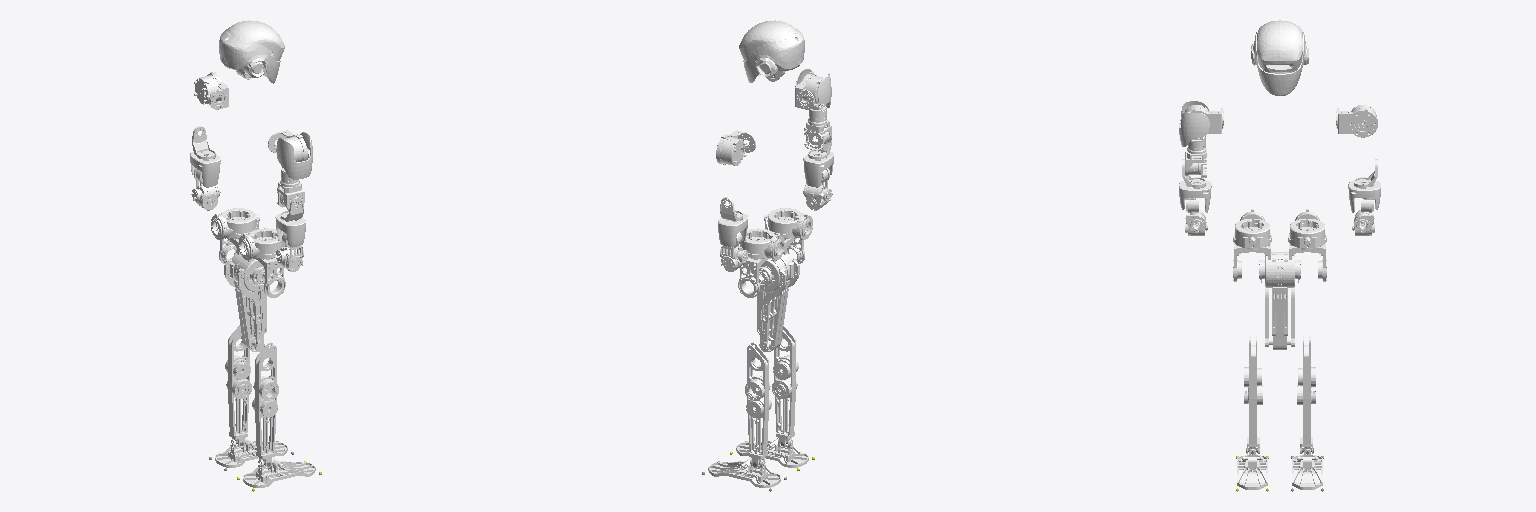
--- Facts derived from the render (not from the file) ---
3 views of the same robot in one strip: view 1: azimuth 30°, elevation 25°; view 2: azimuth 150°, elevation 25°; view 3: azimuth 270°, elevation 25° (orthographic).
Robot: biped_s41 — 45 links, 44 joints (28 revolute, 16 fixed); root link dummy_link; default pose: all joints at 0.
Visible links, largest first — view 1: head, leg_r4_link, leg_l4_link, leg_r3_link, leg_r6_link, leg_l1_link, leg_l3_link, leg_r1_link, zarm_r2_link, leg_l6_link, zarm_l1_link, leg_r2_link (+4 smaller); view 2: head, leg_l4_link, leg_r4_link, leg_l3_link, leg_l6_link, leg_r1_link, leg_r3_link, leg_l1_link, zarm_l1_link, leg_r6_link, leg_l2_link, zarm_r3_link (+3 smaller); view 3: head, leg_l4_link, leg_r4_link, leg_l3_link, leg_r3_link, leg_l1_link, leg_r1_link, zarm_l1_link, leg_l6_link, leg_r6_link, zarm_r2_link, zarm_r3_link (+4 smaller).
Boxes of the visible links, x1,y1,x2,y2 form: head: [219, 20, 284, 83]; leg_r4_link: [252, 342, 278, 467]; leg_l4_link: [225, 325, 251, 447]; leg_r3_link: [230, 253, 266, 351]; leg_r6_link: [237, 457, 321, 491]; leg_l1_link: [211, 208, 259, 239]; leg_l3_link: [224, 259, 272, 351]; leg_r1_link: [238, 228, 285, 260]; zarm_r2_link: [276, 132, 312, 179]; leg_l6_link: [209, 438, 293, 470]; zarm_l1_link: [194, 72, 228, 109]; leg_r2_link: [248, 258, 285, 297]; head: [739, 20, 804, 82]; leg_l4_link: [745, 342, 771, 467]; leg_r4_link: [772, 325, 798, 447]; leg_l3_link: [757, 253, 793, 351]; leg_l6_link: [702, 458, 786, 491]; leg_r1_link: [764, 208, 812, 239]; leg_r3_link: [751, 259, 799, 351]; leg_l1_link: [738, 228, 784, 260]; zarm_l1_link: [716, 130, 755, 165]; leg_r6_link: [730, 438, 814, 470]; leg_l2_link: [738, 258, 775, 297]; zarm_r3_link: [804, 106, 831, 151]; head: [1251, 20, 1308, 95]; leg_l4_link: [1297, 337, 1315, 453]; leg_r4_link: [1244, 337, 1262, 453]; leg_l3_link: [1265, 252, 1294, 349]; leg_r3_link: [1265, 252, 1294, 349]; leg_l1_link: [1288, 209, 1326, 249]; leg_r1_link: [1233, 209, 1271, 249]; zarm_l1_link: [1336, 105, 1377, 137]; leg_l6_link: [1291, 447, 1323, 491]; leg_r6_link: [1236, 447, 1268, 491]; zarm_r2_link: [1179, 101, 1209, 146]; zarm_r3_link: [1185, 136, 1206, 177].
Bounding box of the posed robot: 0.2784 × 0.6404 × 1.55 m (x, y, z).
25 mesh visuals loaded from 30 distinct referenced files (25 binary STL); not drawn: 5 (reference not matched to a file when rendering).

URDF robot description (biped_s41):
<?xml version="1.0" encoding="utf-8"?>
<!-- This URDF was automatically created by SolidWorks to URDF Exporter! Originally created by Stephen Brawner ([email redacted]) 
     Commit Version: 1.6.0-1-g15f4949  Build Version: 1.6.7594.29634
     For more information, please see http://wiki.ros.org/sw_urdf_exporter -->
<robot
  name="biped_s41">
  <mujoco>
    <compiler meshdir="../meshes/" balanceinertia="true" discardvisual="false"/>
  </mujoco>
  <link name="dummy_link">
  </link>
  <link name="base_link">
    <inertial>
      <origin 
        xyz="0.00383143 0.0 0.18350901"
      	rpy="0 0 0" />
      <mass 
        value="26.37683"  />
      <inertia ixx="0.95851611" ixy="0.00026968" ixz="0.06381351" iyy="0.83635568" iyz="0.00069789" izz="0.29474019" />
    </inertial>
    <visual>
      <origin 
        xyz="0 0 0"
        rpy="0 0 0" />
      <geometry>
        <mesh filename="package://kuavo_assets/models/biped_s41/meshes/torso.STL" />
      </geometry>
      <material 
        name="">
        <color 
          rgba="1 1 1 1" />
      </material>
    </visual>
  </link>
  <joint name="dummy_to_base_link" type="fixed">
    <parent link="dummy_link"/>
    <child link="base_link"/>
    <origin rpy="0 0 0" xyz="0 0 0"/>
  </joint>
  
  <link
    name="leg_l1_link">
    <inertial>
      <origin
        xyz="-0.00430148 -0.00002708 -0.00851195"
        rpy="0 0 0" />
      <mass
        value="1.71093115" />
      <inertia
        ixx="0.00206092"
        ixy="-0.00000197"
        ixz="-0.00006944"
        iyy="0.00277274"
        iyz="0.00000510"
        izz="0.00370826" />
    </inertial>
    <visual>
      <origin
        xyz="0 0 0"
        rpy="0 0 0" />
      <geometry>
        <mesh
          filename="package://kuavo_assets/models/biped_s41/meshes/l_leg_roll.STL" />
      </geometry>
      <material
        name="">
        <color
          rgba="1 1 1 1" />
      </material>
    </visual>
    <!-- <collision>
      <origin
        xyz="0 0 0"
        rpy="0 0 0" />
      <geometry>
        <mesh
          filename="package://kuavo_assets/models/biped_s41/meshes/l_leg_roll.STL" />
      </geometry>
    </collision> -->
  </link>
  <joint
    name="leg_l1_joint"
    type="revolute">
    <origin
      xyz="-0.0024999 0.087 -0.066"
      rpy="0 0 0" />
    <parent
      link="base_link" />
    <child
      link="leg_l1_link" />
    <axis
      xyz="1 0 0" />
    <limit
      lower="-0.31416"
      upper="0.66323"
      effort="0"
      velocity="0" />
  </joint>
  <link
    name="leg_l2_link">
    <inertial>
      <origin
        xyz="0.00000000 -0.00322560 -0.09080869"
        rpy="0 0 0" />
      <mass
        value="0.55762936" />
      <inertia
        ixx="0.00213816"
        ixy="0.00000000"
        ixz="-0.00000003"
        iyy="0.00118284"
        iyz="0.00004162"
        izz="0.00139547" />
    </inertial>
    <visual>
      <origin
        xyz="0 0 0"
        rpy="0 0 0" />
      <geometry>
        <mesh
          filename="package://kuavo_assets/models/biped_s41/meshes/l_leg_yaw.STL" />
      </geometry>
      <material
        name="">
        <color
          rgba="1 1 1 1" />
      </material>
    </visual>
    <!-- <collision>
      <origin
        xyz="0 0 0"
        rpy="0 0 0" />
      <geometry>
        <mesh
          filename="package://kuavo_assets/models/biped_s41/meshes/l_leg_yaw.STL" />
      </geometry>
    </collision> -->
  </link>
  <joint
    name="leg_l2_joint"
    type="revolute">
    <origin
      xyz="0 0 0"
      rpy="0 0 0" />
    <parent
      link="leg_l1_link" />
    <child
      link="leg_l2_link" />
    <axis
      xyz="0 0 1" />
    <limit
      lower="-0.87266"
      upper="0.7854"
      effort="0"
      velocity="0" />
  </joint>
  <link
    name="leg_l3_link">
    <inertial>
      <origin
        xyz="0.00185677 0.01023458 -0.08558380"
        rpy="0 0 0" />
      <mass
        value="4.43577451" />
      <inertia
        ixx="0.04271209"
        ixy="-0.00000777"
        ixz="-0.00143032"
        iyy="0.04341831"
        iyz="-0.00092942"
        izz="0.01102339" />
    </inertial>
    <visual>
      <origin
        xyz="0 0 0"
        rpy="0 0 0" />
      <geometry>
        <mesh
          filename="package://kuavo_assets/models/biped_s41/meshes/l_leg_pitch.STL" />
      </geometry>
      <material
        name="">
        <color
          rgba="1 1 1 1" />
      </material>
    </visual>
    <!-- <collision>
      <origin
        xyz="0 0 0"
        rpy="0 0 0" />
      <geometry>
        <mesh
          filename="package://kuavo_assets/models/biped_s41/meshes/l_leg_pitch.STL" />
      </geometry>
    </collision> -->
  </link>
  <joint
    name="leg_l3_joint"
    type="revolute">
    <origin
      xyz="0 0 -0.1287"
      rpy="0 0 0" />
    <parent
      link="leg_l2_link" />
    <child
      link="leg_l3_link" />
    <axis
      xyz="0 1 0" />
    <limit
      lower="-1.5708"
      upper="2.0071"
      effort="0"
      velocity="0" />
  </joint>
  <link
    name="leg_l4_link">
    <inertial>
      <origin
        xyz="0.00716677 -0.00006696 -0.11481925"
        rpy="0 0 0" />
      <mass
        value="1.61274530" />
      <inertia
        ixx="0.01103699"
        ixy="0.00000084"
        ixz="-0.00000711"
        iyy="0.01095123"
        iyz="0.00000987"
        izz="0.00087225" />
    </inertial>
    <visual>
      <origin
        xyz="0 0 0"
        rpy="0 0 0" />
      <geometry>
        <mesh
          filename="package://kuavo_assets/models/biped_s41/meshes/l_knee.STL" />
      </geometry>
      <material
        name="">
        <color
          rgba="1 1 1 1" />
      </material>
    </visual>
    <!-- <collision>
      <origin
        xyz="0 0 0"
        rpy="0 0 0" />
      <geometry>
        <mesh
          filename="package://kuavo_assets/models/biped_s41/meshes/l_knee.STL" />
      </geometry>
    </collision> -->
  </link>
  <joint
    name="leg_l4_joint"
    type="revolute">
    <origin
      xyz="0 0 -0.284"
      rpy="0 0 0" />
    <parent
      link="leg_l3_link" />
    <child
      link="leg_l4_link" />
    <axis
      xyz="0 1 0" />
    <limit
      lower="0"
      upper="2.618"
      effort="0"
      velocity="0" />
  </joint>
  <link
    name="leg_l5_link">
    <inertial>
      <origin
        xyz="0.00000000 0.00000000 0.00000000"
        rpy="0 0 0" />
      <mass
        value="0.07193524" />
      <inertia
        ixx="0.00000692"
        ixy="0.00000000"
        ixz="0.00000000"
        iyy="0.00000692"
        iyz="0.00000000"
        izz="0.00001218" />
    </inertial>
    <visual>
      <origin
        xyz="0 0 0"
        rpy="0 0 0" />
      <geometry>
        <mesh
          filename="package://kuavo_assets/models/biped_s41/meshes/l_foot_pitch.STL" />
      </geometry>
      <material
        name="">
        <color
          rgba="0.647058823529412 0.619607843137255 0.588235294117647 1" />
      </material>
    </visual>
    <!-- <collision>
      <origin
        xyz="0 0 0"
        rpy="0 0 0" />
      <geometry>
        <mesh
          filename="package://kuavo_assets/models/biped_s41/meshes/l_foot_pitch.STL" />
      </geometry>
    </collision> -->
  </link>
  <joint
    name="leg_l5_joint"
    type="revolute">
    <origin
      xyz="0 0 -0.346"
      rpy="0 0 0" />
    <parent
      link="leg_l4_link" />
    <child
      link="leg_l5_link" />
    <axis
      xyz="0 1 0" />
    <limit
      lower="-0.38397"
      upper="0.73304"
      effort="0"
      velocity="0" />
  </joint>
  <link
    name="leg_l6_link">
    <inertial>
      <origin
        xyz="0.03732754 -0.00000222 -0.03883977"
        rpy="0 0 0" />
      <mass
        value="0.49861272" />
      <inertia
        ixx="0.00039242"
        ixy="-0.00000003"
        ixz="-0.00004664"
        iyy="0.00158655"
        iyz="0.00000000"
        izz="0.00172576" />
    </inertial>
    <visual>
      <origin
        xyz="0 0 0"
        rpy="0 0 0" />
      <geometry>
        <mesh
          filename="package://kuavo_assets/models/biped_s41/meshes/l_foot_roll.STL" />
      </geometry>
      <material
        name="">
        <color
          rgba="1 1 1 1" />
      </material>
    </visual>
    <!-- <collision>
      <origin
        xyz="0 0 0"
        rpy="0 0 0" />
      <geometry>
        <mesh
          filename="package://kuavo_assets/models/biped_s41/meshes/l_foot_roll.STL" />
      </geometry>
    </collision> -->
    <visual>
      <origin rpy="0 0 0" xyz="-0.07316 0.04773 -0.0593" />
      <geometry>
        <sphere radius="0.005" />
      </geometry>
    </visual>
    <collision>
      <origin rpy="0 0 0" xyz="-0.07316 0.04773 -0.0593" />
      <geometry>
        <sphere radius="0.005" />
      </geometry>
    </collision>
    <visual>
      <origin rpy="0 0 0" xyz="-0.07316 -0.04773 -0.0593" />
      <geometry>
        <sphere radius="0.005" />
      </geometry>
    </visual>
    <collision>
      <origin rpy="0 0 0" xyz="-0.07316 -0.04773 -0.0593" />
      <geometry>
        <sphere radius="0.005" />
      </geometry>
    </collision>
    <visual>
      <origin rpy="0 0 0" xyz="0.16902 0.04773 -0.0593" />
      <geometry>
        <sphere radius="0.005" />
      </geometry>
    </visual>
    <collision>
      <origin rpy="0 0 0" xyz="0.16902 0.04773 -0.0593" />
      <geometry>
        <sphere radius="0.005" />
      </geometry>
    </collision>
    <visual>
      <origin rpy="0 0 0" xyz="0.16902 -0.04773 -0.0593" />
      <geometry>
        <sphere radius="0.005" />
      </geometry>
    </visual>
    <collision>
      <origin rpy="0 0 0" xyz="0.16902 -0.04773 -0.0593" />
      <geometry>
        <sphere radius="0.005" />
      </geometry>
    </collision>
  </link>
  <joint
    name="leg_l6_joint"
    type="revolute">
    <origin
      xyz="0 0 0"
      rpy="0 0 0" />
    <parent
      link="leg_l5_link" />
    <child
      link="leg_l6_link" />
    <axis
      xyz="1 0 0" />
    <limit
      lower="-0.5236"
      upper="0.5236"
      effort="0"
      velocity="0" />
  </joint>

  <link
    name="ll_foot_toe">
    <collision>
        <origin rpy="0 0 0" xyz="0 0 0"/>
        <geometry>
            <sphere radius="0.005"/>
        </geometry>
    </collision>
  </link>
  <joint
    name="ll_foot_toe_joint"
    type="fixed">
    <origin
      xyz="0.16902 0.04773 -0.0593"
      rpy="0 0 0" />
    <parent
      link="leg_l6_link" />
    <child
      link="ll_foot_toe" />
  </joint>
  <link
    name="ll_foot_heel">
    <collision>
        <origin rpy="0 0 0" xyz="0 0 0"/>
        <geometry>
            <sphere radius="0.005"/>
        </geometry>
    </collision>
  </link>
  <joint
    name="ll_foot_heel_joint"
    type="fixed">
    <origin
      xyz="-0.07316 0.04773 -0.0593"
      rpy="0 0 0" />
    <parent
      link="leg_l6_link" />
    <child
      link="ll_foot_heel" />
  </joint>

  <link
    name="lr_foot_toe">
    <collision>
        <origin rpy="0 0 0" xyz="0 0 0"/>
        <geometry>
            <sphere radius="0.005"/>
        </geometry>
    </collision>
  </link>
  <joint
    name="lr_foot_toe_joint"
    type="fixed">
    <origin
      xyz="0.16902 -0.04773 -0.0593"
      rpy="0 0 0" />
    <parent
      link="leg_l6_link" />
    <child
      link="lr_foot_toe" />
  </joint>
  <link
    name="lr_foot_heel">
    <collision>
        <origin rpy="0 0 0" xyz="0 0 0"/>
        <geometry>
            <sphere radius="0.005"/>
        </geometry>
    </collision>
  </link>
  <joint
    name="lr_foot_heel_joint"
    type="fixed">
    <origin
      xyz="-0.07316 -0.04773 -0.0593"
      rpy="0 0 0" />
    <parent
      link="leg_l6_link" />
    <child
      link="lr_foot_heel" />
  </joint>
  <link
    name="l_foot_toe">
    <collision>
        <origin rpy="0 0 0" xyz="0 0 0"/>
        <geometry>
            <sphere radius="0.005"/>
        </geometry>
    </collision>
  </link>
  <joint
    name="l_foot_toe_joint"
    type="fixed">
    <origin
      xyz="0.17084 0.0 -0.0593"
      rpy="0 0 0" />
    <parent
      link="leg_l6_link" />
    <child
      link="l_foot_toe" />
  </joint>
  <link
    name="l_foot_heel">
    <collision>
        <origin rpy="0 0 0" xyz="0 0 0"/>
        <geometry>
            <sphere radius="0.005"/>
        </geometry>
    </collision>
  </link>
  <joint
    name="l_foot_heel_joint"
    type="fixed">
    <origin
      xyz="-0.07316 0.0 -0.0593"
      rpy="0 0 0" />
    <parent
      link="leg_l6_link" />
    <child
      link="l_foot_heel" />
  </joint>
  
  <link
    name="leg_r1_link">
    <inertial>
      <origin
        xyz="-0.00430146 0.00002709 -0.00851195"
        rpy="0 0 0" />
      <mass
        value="1.71093008" />
      <inertia
        ixx="0.00206092"
        ixy="0.00000197"
        ixz="-0.00006944"
        iyy="0.00277274"
        iyz="-0.00000510"
        izz="0.00370826" />
    </inertial>
    <visual>
      <origin
        xyz="0 0 0"
        rpy="0 0 0" />
      <geometry>
        <mesh
          filename="package://kuavo_assets/models/biped_s41/meshes/r_leg_roll.STL" />
      </geometry>
      <material
        name="">
        <color
          rgba="1 1 1 1" />
      </material>
    </visual>
    <!-- <collision>
      <origin
        xyz="0 0 0"
        rpy="0 0 0" />
      <geometry>
        <mesh
          filename="package://kuavo_assets/models/biped_s41/meshes/r_leg_roll.STL" />
      </geometry>
    </collision> -->
  </link>
  <joint
    name="leg_r1_joint"
    type="revolute">
    <origin
      xyz="-0.0024999 -0.087 -0.066"
      rpy="0 0 0" />
    <parent
      link="base_link" />
    <child
      link="leg_r1_link" />
    <axis
      xyz="1 0 0" />
    <limit
      lower="-0.31416"
      upper="0.66323"
      effort="0"
      velocity="0" />
  </joint>
  <link
    name="leg_r2_link">
    <inertial>
      <origin
        xyz="0.00000000 0.00322561 -0.09080869"
        rpy="0 0 0" />
      <mass
        value="0.55762928" />
      <inertia
        ixx="0.00213816"
        ixy="0.00000000"
        ixz="-0.00000003"
        iyy="0.00118284"
        iyz="-0.00004162"
        izz="0.00139547" />
    </inertial>
    <visual>
      <origin
        xyz="0 0 0"
        rpy="0 0 0" />
      <geometry>
        <mesh
          filename="package://kuavo_assets/models/biped_s41/meshes/r_leg_yaw.STL" />
      </geometry>
      <material
        name="">
        <color
          rgba="1 1 1 1" />
      </material>
    </visual>
    <!-- <collision>
      <origin
        xyz="0 0 0"
        rpy="0 0 0" />
      <geometry>
        <mesh
          filename="package://kuavo_assets/models/biped_s41/meshes/r_leg_yaw.STL" />
      </geometry>
    </collision> -->
  </link>
  <joint
    name="leg_r2_joint"
    type="revolute">
    <origin
      xyz="0 0 0"
      rpy="0 0 0" />
    <parent
      link="leg_r1_link" />
    <child
      link="leg_r2_link" />
    <axis
      xyz="0 0 1" />
    <limit
      lower="-0.87266"
      upper="0.7854"
      effort="0"
      velocity="0" />
  </joint>
  <link
    name="leg_r3_link">
    <inertial>
      <origin
        xyz="0.00185677 -0.01023458 -0.08558380"
        rpy="0 0 0" />
      <mass
        value="4.43577451" />
      <inertia
        ixx="0.04271209"
        ixy="-0.00000777"
        ixz="-0.00143032"
        iyy="0.04420935"
        iyz="-0.00092942"
        izz="0.01102339" />
    </inertial>
    <visual>
      <origin
        xyz="0 0 0"
        rpy="0 0 0" />
      <geometry>
        <mesh
          filename="package://kuavo_assets/models/biped_s41/meshes/r_leg_pitch.STL" />
      </geometry>
      <material
        name="">
        <color
          rgba="1 1 1 1" />
      </material>
    </visual>
    <!-- <collision>
      <origin
        xyz="0 0 0"
        rpy="0 0 0" />
      <geometry>
        <mesh
          filename="package://kuavo_assets/models/biped_s41/meshes/r_leg_pitch.STL" />
      </geometry>
    </collision> -->
  </link>
  <joint
    name="leg_r3_joint"
    type="revolute">
    <origin
      xyz="0 0 -0.1287"
      rpy="0 0 0" />
    <parent
      link="leg_r2_link" />
    <child
      link="leg_r3_link" />
    <axis
      xyz="0 1 0" />
    <limit
      lower="-1.5708"
      upper="2.0071"
      effort="0"
      velocity="0" />
  </joint>
  <link
    name="leg_r4_link">
    <inertial>
      <origin
        xyz="0.00716677 0.00006696 -0.11481925"
        rpy="0 0 0" />
      <mass
        value="1.61274530" />
      <inertia
        ixx="0.01103699"
        ixy="0.00000084"
        ixz="-0.00000711"
        iyy="0.01095123"
        iyz="0.00000987"
        izz="0.00087225" />
    </inertial>
    <visual>
      <origin
        xyz="0 0 0"
        rpy="0 0 0" />
      <geometry>
        <mesh
          filename="package://kuavo_assets/models/biped_s41/meshes/r_knee.STL" />
      </geometry>
      <material
        name="">
        <color
          rgba="1 1 1 1" />
      </material>
    </visual>
    <!-- <collision>
      <origin
        xyz="0 0 0"
        rpy="0 0 0" />
      <geometry>
        <mesh
          filename="package://kuavo_assets/models/biped_s41/meshes/r_knee.STL" />
      </geometry>
    </collision> -->
  </link>
  <joint
    name="leg_r4_joint"
    type="revolute">
    <origin
      xyz="0 0 -0.284"
      rpy="0 0 0" />
    <parent
      link="leg_r3_link" />
    <child
      link="leg_r4_link" />
    <axis
      xyz="0 1 0" />
    <limit
      lower="0"
      upper="2.618"
      effort="0"
      velocity="0" />
  </joint>
  <link
    name="leg_r5_link">
    <inertial>
      <origin
        xyz="0.00000000 0.00000000 0.00000000"
        rpy="0 0 0" />
      <mass
        value="0.07193524" />
      <inertia
        ixx="0.00000692"
        ixy="0.00000000"
        ixz="0.00000000"
        iyy="0.00000692"
        iyz="0.00000000"
        izz="0.00001218" />
    </inertial>
    <visual>
      <origin
        xyz="0 0 0"
        rpy="0 0 0" />
      <geometry>
        <mesh
          filename="package://kuavo_assets/models/biped_s41/meshes/r_foot_pitch.STL" />
      </geometry>
      <material
        name="">
        <color
          rgba="0.647058823529412 0.619607843137255 0.588235294117647 1" />
      </material>
    </visual>
    <!-- <collision>
      <origin
        xyz="0 0 0"
        rpy="0 0 0" />
      <geometry>
        <mesh
          filename="package://kuavo_assets/models/biped_s41/meshes/r_foot_pitch.STL" />
      </geometry>
    </collision> -->
  </link>
  <joint
    name="leg_r5_joint"
    type="revolute">
    <origin
      xyz="0 0 -0.346"
      rpy="0 0 0" />
    <parent
      link="leg_r4_link" />
    <child
      link="leg_r5_link" />
    <axis
      xyz="0 1 0" />
    <limit
      lower="-0.38397"
      upper="0.73304"
      effort="0"
      velocity="0" />
  </joint>
  <link
    name="leg_r6_link">
    <inertial>
      <origin
        xyz="0.03732754 -0.00000222 -0.03883977"
        rpy="0 0 0" />
      <mass
        value="0.49861272" />
      <inertia
        ixx="0.00039242"
        ixy="-0.00000003"
        ixz="-0.00004664"
        iyy="0.00158655"
        iyz="0.00000000"
        izz="0.00172576" />
    </inertial>
    <visual>
      <origin
        xyz="0 0 0"
        rpy="0 0 0" />
      <geometry>
        <mesh
          filename="package://kuavo_assets/models/biped_s41/meshes/r_foot_roll.STL" />
      </geometry>
      <material
        name="">
        <color
          rgba="1 1 1 1" />
      </material>
    </visual>
    <!-- <collision>
      <origin
        xyz="0 0 0"
        rpy="0 0 0" />
      <geometry>
        <mesh
          filename="package://kuavo_assets/models/biped_s41/meshes/r_foot_roll.STL" />
      </geometry>
    </collision> -->
    <visual>
      <origin rpy="0 0 0" xyz="-0.07316 0.04773 -0.0593" />
      <geometry>
        <sphere radius="0.005" />
      </geometry>
    </visual>
    <collision>
      <origin rpy="0 0 0" xyz="-0.07316 0.04773 -0.0593" />
      <geometry>
        <sphere radius="0.005" />
      </geometry>
    </collision>
    <visual>
      <origin rpy="0 0 0" xyz="-0.07316 -0.04773 -0.0593" />
      <geometry>
        <sphere radius="0.005" />
      </geometry>
    </visual>
    <collision>
      <origin rpy="0 0 0" xyz="-0.07316 -0.04773 -0.0593" />
      <geometry>
        <sphere radius="0.005" />
      </geometry>
    </collision>
    <visual>
      <origin rpy="0 0 0" xyz="0.16902 0.04773 -0.0593" />
      <geometry>
        <sphere radius="0.005" />
      </geometry>
    </visual>
    <collision>
      <origin rpy="0 0 0" xyz="0.16902 0.04773 -0.0593" />
      <geometry>
        <sphere radius="0.005" />
      </geometry>
    </collision>
    <visual>
      <origin rpy="0 0 0" xyz="0.16902 -0.04773 -0.0593" />
      <geometry>
        <sphere radius="0.005" />
      </geometry>
    </visual>
    <collision>
      <origin rpy="0 0 0" xyz="0.16902 -0.04773 -0.0593" />
      <geometry>
        <sphere radius="0.005" />
      </geometry>
    </collision>
  </link>
  <joint
    name="leg_r6_joint"
    type="revolute">
    <origin
      xyz="0 0 0"
      rpy="0 0 0" />
    <parent
      link="leg_r5_link" />
    <child
      link="leg_r6_link" />
    <axis
      xyz="1 0 0" />
    <limit
      lower="-0.5236"
      upper="0.5236"
      effort="0"
      velocity="0" />
  </joint>

  <link
    name="rl_foot_toe">
    <collision>
        <origin rpy="0 0 0" xyz="0 0 0"/>
        <geometry>
            <sphere radius="0.005"/>
        </geometry>
    </collision>
  </link>
  <joint
    name="rl_foot_toe_joint"
    type="fixed">
    <origin
      xyz="0.16902 0.04773 -0.0593"
      rpy="0 0 0" />
    <parent
      link="leg_r6_link" />
    <child
      link="rl_foot_toe" />
  </joint>
  <link
    name="rl_foot_heel">
    <collision>
        <origin rpy="0 0 0" xyz="0 0 0"/>
        <geometry>
            <sphere radius="0.005"/>
        </geometry>
    </collision>
  </link>
  <joint
    name="rl_foot_heel_joint"
    type="fixed">
    <origin
      xyz="-0.07316 0.04773 -0.0593"
      rpy="0 0 0" />
    <parent
      link="leg_r6_link" />
    <child
      link="rl_foot_heel" />
  </joint>
  <link
    name="rr_foot_toe">
    <collision>
        <origin rpy="0 0 0" xyz="0 0 0"/>
        <geometry>
            <sphere radius="0.005"/>
        </geometry>
    </collision>
  </link>
  <joint
    name="rr_foot_toe_joint"
    type="fixed">
    <origin
      xyz="0.16902 -0.04773 -0.0593"
      rpy="0 0 0" />
    <parent
      link="leg_r6_link" />
    <child
      link="rr_foot_toe" />
  </joint>
  <link
    name="rr_foot_heel">
    <collision>
        <origin rpy="0 0 0" xyz="0 0 0"/>
        <geometry>
            <sphere radius="0.005"/>
        </geometry>
    </collision>
  </link>
  <joint
    name="rr_foot_heel_joint"
    type="fixed">
    <origin
      xyz="-0.07316 -0.04773 -0.0593"
      rpy="0 0 0" />
    <parent
      link="leg_r6_link" />
    <child
      link="rr_foot_heel" />
  </joint>
  <link
    name="r_foot_toe">
    <collision>
        <origin rpy="0 0 0" xyz="0 0 0"/>
        <geometry>
            <sphere radius="0.005"/>
        </geometry>
    </collision>
  </link>
  <joint
    name="r_foot_toe_joint"
    type="fixed">
    <origin
      xyz="0.17084 -0.0 -0.0593"
      rpy="0 0 0" />
    <parent
      link="leg_r6_link" />
    <child
      link="r_foot_toe" />
  </joint>
  <link
    name="r_foot_heel">
    <collision>
        <origin rpy="0 0 0" xyz="0 0 0"/>
        <geometry>
            <sphere radius="0.005"/>
        </geometry>
    </collision>
  </link>
  <joint
    name="r_foot_heel_joint"
    type="fixed">
    <origin
      xyz="-0.07316 -0.0 -0.0593"
      rpy="0 0 0" />
    <parent
      link="leg_r6_link" />
    <child
      link="r_foot_heel" />
  </joint>

  <link
    name="zarm_l1_link">
    <inertial>
      <origin
        xyz="0.0146835191418715 -0.0166604103758634 -6.82857133371129E-05"
        rpy="0 0 0" />
      <mass
        value="0.794" />
      <inertia
        ixx="0.0002674432873971"
        ixy="-2.5654089149164E-05"
        ixz="-1.72966133127553E-07"
        iyy="0.000125796784291983"
        iyz="-1.66717296343013E-06"
        izz="0.000196186976742156" />
    </inertial>
    <visual>
      <origin
        xyz="0 0 0"
        rpy="0 0 0" />
      <geometry>
        <mesh
          filename="package://kuavo_assets/models/biped_s41/meshes/l_arm_pitch.STL" />
      </geometry>
      <material
        name="">
        <color
          rgba="1 1 1 1" />
      </material>
    </visual>    
  </link>
  <joint
    name="zarm_l1_joint"
    type="revolute">
    <origin
      xyz="-0.0175475823124921 0.262700000000031 0.3245"
      rpy="0 0 0" />
    <parent
      link="base_link" />
    <child
      link="zarm_l1_link" />
    <axis
      xyz="0 1 0" />
    <limit 
      lower="-2.0933" 
      upper="0.5233" 
      effort="60" 
      velocity="14" />
    <dynamic
      damping="0.2" />
  </joint>

  <link
    name="zarm_l2_link">
    <inertial>
      <origin
        xyz="0.0222872651779299 0.0156945544195473 -0.0202262244341484"
        rpy="0 0 0" />
      <mass
        value="0.20735" />
      <inertia
        ixx="0.000160370067223081"
        ixy="6.30811840859269E-06"
        ixz="-1.13259246453495E-05"
        iyy="0.000262365778589962"
        iyz="3.14941259087024E-05"
        izz="0.00023601403628197" />
    </inertial>
    <visual>
      <origin
        xyz="0 0 0"
        rpy="0 0 0" />
      <geometry>
        <mesh
          filename="package://kuavo_assets/models/biped_s41/meshes/l_arm_roll.STL" />
      </geometry>
      <material
        name="">
        <color
          rgba="1 1 1 1" />
      </material>
    </visual>   
  </link>
  <joint
    name="zarm_l2_joint"
    type="revolute">
    <origin
      xyz="0 0 0"
      rpy="0 0 0" />
    <parent
      link="zarm_l1_link" />
    <child
      link="zarm_l2_link" />
    <axis
      xyz="1 0 0" />
    <limit 
      lower="-0.3489" 
      upper="2.0933" 
      effort="82.8" 
      velocity="14" />
    <dynamic
      damping="0.2" />
  </joint>

  <link
    name="zarm_l3_link">
    <inertial>
      <origin
        xyz="6.16940440451783E-05 0.00525815062784063 -0.128821944854616"
        rpy="0 0 0" />
      <mass
        value="1.120632" />
      <inertia
        ixx="7.00575957554699E-05"
        ixy="-6.81658291272877E-10"
        ixz="2.69427050743199E-10"
        iyy="8.53612265336777E-05"
        iyz="6.95899873075699E-06"
        izz="8.82223899453285E-05" />
    </inertial>
    <visual>
      <origin
        xyz="0 0 0"
        rpy="0 0 0" />
      <geometry>
        <mesh
          filename="package://kuavo_assets/models/biped_s41/meshes/l_arm_yaw.STL" />
      </geometry>
      <material
        name="">
        <color
          rgba="1 1 1 1" />
      </material>
    </visual>    
  </link>
  <joint
    name="zarm_l3_joint"
    type="revolute">
    <origin
      xyz="0 0 0"
      rpy="0 0 0" />
    <parent
      link="zarm_l2_link" />
    <child
      link="zarm_l3_link" />
    <axis
      xyz="0 0 1" />
    <limit 
      lower="-1.57" 
      upper="1.57" 
      effort="60" 
      velocity="14" />
    <dynamic
      damping="0.2" />
  </joint>
  
  <link
    name="zarm_l4_link">
    <inertial>
      <origin
        xyz="-1.4281929799409E-05 0.00938313949959718 -0.0522687552263489"
        rpy="0 0 0" />
      <mass
        value="0.395825" />
      <inertia
        ixx="9.558084476069E-05"
        ixy="-4.53863490387433E-08"
        ixz="5.39342118513253E-08"
        iyy="0.000126326373178391"
        iyz="-9.58160032696958E-06"
        izz="0.000121032474884238" />
    </inertial>
    <visual>
      <origin
        xyz="0 0 0"
        rpy="0 0 0" />
      <geometry>
        <mesh
          filename="package://kuavo_assets/models/biped_s41/meshes/l_forearm_pitch.STL" />
      </geometry>
      <material
        name="">
        <color
          rgba="1 1 1 1" />
      </material>
    </visual>    
  </link>
  <joint
    name="zarm_l4_joint"
    type="revolute">
    <origin
      xyz="0 0 -0.163599999999998"
      rpy="0 0 0" />
    <parent
      link="zarm_l3_link" />
    <child
      link="zarm_l4_link" />
    <axis
      xyz="0 1 0" />
    <limit lower="-2.0933" upper="0" effort="60" velocity="14" />
    <dynamic
      damping="0.2" />
  </joint>
  
  <link
    name="zarm_l5_link">
    <inertial>
      <origin
        xyz="0.000113133463122583 0.00969227839919062 0.0817960696431681"
        rpy="0 0 0" />
      <mass
        value="0.380792" />
      <inertia
        ixx="7.64923984145487E-05"
        ixy="8.51098127601464E-09"
        ixz="-1.4070355859132E-08"
        iyy="0.000122231132554914"
        iyz="1.11226968994633E-06"
        izz="8.44935061342021E-05" />
    </inertial>
    <visual>
      <origin
        xyz="0 0 0"
        rpy="0 0 0" />
      <geometry>
        <mesh
          filename="package://kuavo_assets/models/biped_s41/meshes/l_hand_yaw.STL" />
      </geometry>
      <material
        name="">
        <color
          rgba="1 1 1 1" />
      </material>
    </visual>   
  </link>
  <joint
    name="zarm_l5_joint"
    type="revolute">
    <origin
      xyz="0 0 -0.191049997298861"
      rpy="0 0 0" />
    <parent
      link="zarm_l4_link" />
    <child
      link="zarm_l5_link" />
    <axis
      xyz="0 0 1" />
    <limit 
      lower="-1.657" 
      upper="1.657" 
      effort="6" 
      velocity="14" />
    <dynamic
      damping="0.2" />
  </joint>
  
  <link
    name="zarm_l6_link">
    <inertial>
      <origin
        xyz="0.00810609786663821 0.00489663150092601 0.00622488608908427"
        rpy="0 0 0" />
      <mass
        value="0.376651" />
      <inertia
        ixx="4.77321490368476E-05"
        ixy="3.05261917457107E-06"
        ixz="4.77827164947654E-06"
        iyy="3.43814769749139E-05"
        iyz="-4.59311499587155E-06"
        izz="2.49955336560135E-05" />
    </inertial>
    <visual>
      <origin
        xyz="0 0 0"
        rpy="0 0 0" />
      <geometry>
        <mesh
          filename="package://kuavo_assets/models/biped_s41/meshes/l_hand_pitch.STL" />
      </geometry>
      <material
        name="">
        <color
          rgba="1 1 1 1" />
      </material>
    </visual>    
  </link>
  <joint
    name="zarm_l6_joint"
    type="revolute">
    <origin
      xyz="0 0 0"
      rpy="0 0 0" />
    <parent
      link="zarm_l5_link" />
    <child
      link="zarm_l6_link" />
    <axis
      xyz="0 1 0" />
    <limit 
      lower="-1.657" 
      upper="1.657" 
      effort="6" 
      velocity="14" />
    <dynamic
      damping="0.2" />
  </joint>
  
  <link
    name="zarm_l7_link">
    <inertial>
      <origin
        xyz="0.0055750097939089 0.00647363667890594 -0.0826245715087526"
        rpy="0 0 0" />
      <mass
        value="0.704669" />
      <inertia
        ixx="8.04371746531483E-05"
        ixy="2.770174858381E-07"
        ixz="-4.63354764745673E-06"
        iyy="0.000116536814280971"
        iyz="1.04534418501281E-05"
        izz="0.000111690600253046" />
    </inertial>
    <visual>
      <origin
        xyz="0 0 0"
        rpy="0 0 0" />
      <geometry>
        <mesh
          filename="package://kuavo_assets/models/biped_s41/meshes/l_hand_roll.STL" />
      </geometry>
      <material
        name="">
        <color
          rgba="1 1 1 1" />
      </material>
    </visual>   
  </link>
  <joint
    name="zarm_l7_joint"
    type="revolute">
    <origin
      xyz="0 0 0"
      rpy="0 0 0" />
    <parent
      link="zarm_l6_link" />
    <child
      link="zarm_l7_link" />
    <axis
      xyz="1 0 0" />
    <limit 
      lower="-1.57" 
      upper="1.57" 
      effort="6" 
      velocity="14" />
    <dynamic
      damping="0.2" />
  </joint>
  
  <link
    name="zarm_l7_end_effector">
    <collision>
        <origin rpy="0 0 0" xyz="0 0 0"/>
        <geometry>
            <sphere radius="0.005"/>
        </geometry>
    </collision>
  </link>
  <joint
    name="zarm_l7_joint_end_effector"
    type="fixed">
    <origin
      xyz="0.00 -0.03 -0.17"
      rpy="0 0 0" />
    <parent
      link="zarm_l7_link" />
    <child
      link="zarm_l7_end_effector" />
  </joint>

  <link
    name="zarm_r1_link">
    <inertial>
      <origin
        xyz="0.0146743511434554 0.0168298008224051 -8.16711977456031E-05"
        rpy="0 0 0" />
      <mass
        value="0.794" />
      <inertia
        ixx="0.000267364314112701"
        ixy="2.58822573731612E-05"
        ixz="-1.74450019197634E-07"
        iyy="0.000125724274127356"
        iyz="1.71810516637517E-06"
        izz="0.000196179895851995" />
    </inertial>
    <visual>
      <origin
        xyz="0 0 0"
        rpy="0 0 0" />
      <geometry>
        <mesh
          filename="package://kuavo_assets/models/biped_s41/meshes/r_arm_pitch.STL" />
      </geometry>
      <material
        name="">
        <color
          rgba="1 1 1 1" />
      </material>
    </visual>   
  </link>
  <joint
    name="zarm_r1_joint"
    type="revolute">
    <origin
      xyz="-0.0175475823119764 -0.262700000000031 0.3245"
      rpy="0 0 0" />
    <parent
      link="base_link" />
    <child
      link="zarm_r1_link" />
    <axis
      xyz="0 1 0" />
    <limit 
      lower="-2.0933" 
      upper="0.5233" 
      effort="60" 
      velocity="14" />
    <dynamic
      damping="0.2" />
  </joint>
  
  <link
    name="zarm_r2_link">
    <inertial>
      <origin
        xyz="0.0223009070030529 -0.0156950170482436 -0.0202307747650334"
        rpy="0 0 0" />
      <mass
        value="0.20735" />
      <inertia
        ixx="0.00016058853411588"
        ixy="-6.25733649402466E-06"
        ixz="-1.13236198708706E-05"
        iyy="0.000262566981542989"
        iyz="-3.14930415013909E-05"
        izz="0.000236151535262186" />
    </inertial>
    <visual>
      <origin
        xyz="0 0 0"
        rpy="0 0 0" />
      <geometry>
        <mesh
          filename="package://kuavo_assets/models/biped_s41/meshes/r_arm_roll.STL" />
      </geometry>
      <material
        name="">
        <color
          rgba="1 1 1 1" />
      </material>
    </visual>   
  </link>
  <joint
    name="zarm_r2_joint"
    type="revolute">
    <origin
      xyz="0 0 0"
      rpy="0 0 0" />
    <parent
      link="zarm_r1_link" />
    <child
      link="zarm_r2_link" />
    <axis
      xyz="1 0 0" />
    <limit 
      lower="-2.0933" 
      upper="0.3489" 
      effort="82.8" 
      velocity="14" />
    <dynamic
      damping="0.2" />
  </joint>
  
  <link
    name="zarm_r3_link">
    <inertial>
      <origin
        xyz="-4.82749435400213E-05 -0.0052581506278393 -0.128821944854617"
        rpy="0 0 0" />
      <mass
        value="1.120632" />
      <inertia
        ixx="7.00575957554697E-05"
        ixy="-6.81658260938682E-10"
        ixz="-2.69427064597612E-10"
        iyy="8.53612265336775E-05"
        iyz="-6.95899873075696E-06"
        izz="8.82223899453284E-05" />
    </inertial>
    <visual>
      <origin
        xyz="0 0 0"
        rpy="0 0 0" />
      <geometry>
        <mesh
          filename="package://kuavo_assets/models/biped_s41/meshes/r_arm_yaw.STL" />
      </geometry>
      <material
        name="">
        <color
          rgba="1 1 1 1" />
      </material>
    </visual>    
  </link>
  <joint
    name="zarm_r3_joint"
    type="revolute">
    <origin
      xyz="0 0 0"
      rpy="0 0 0" />
    <parent
      link="zarm_r2_link" />
    <child
      link="zarm_r3_link" />
    <axis
      xyz="0 0 1" />
    <limit 
      lower="-1.57" 
      upper="1.57" 
      effort="60" 
      velocity="14" />
    <dynamic
      damping="0.2" />
  </joint>
  
  <link
    name="zarm_r4_link">
    <inertial>
      <origin
        xyz="-0.000127232990745116 -0.00951602649232586 -0.0522687552263488"
        rpy="0 0 0" />
      <mass
        value="0.395825" />
      <inertia
        ixx="9.55808447606916E-05"
        ixy="-4.53863489774233E-08"
        ixz="-5.41060583443891E-08"
        iyy="0.000126326373178394"
        iyz="9.40982665987077E-06"
        izz="0.00012103247488424" />
    </inertial>
    <visual>
      <origin
        xyz="0 0 0"
        rpy="0 0 0" />
      <geometry>
        <mesh
          filename="package://kuavo_assets/models/biped_s41/meshes/r_forearm_pitch.STL" />
      </geometry>
      <material
        name="">
        <color
          rgba="1 1 1 1" />
      </material>
    </visual>   
  </link>
  <joint
    name="zarm_r4_joint"
    type="revolute">
    <origin
      xyz="0 0 -0.1636"
      rpy="0 0 0" />
    <parent
      link="zarm_r3_link" />
    <child
      link="zarm_r4_link" />
    <axis
      xyz="0 1 0" />
    <limit 
      lower="-2.0933" 
      upper="0" 
      effort="60" 
      velocity="14" />
    <dynamic
      damping="0.2" />
  </joint>
  
  <link
    name="zarm_r5_link">
    <inertial>
      <origin
        xyz="-0.000113133331993445 -0.0097448351680483 0.0817960724173413"
        rpy="0 0 0" />
      <mass
        value="0.380792" />
      <inertia
        ixx="7.64923982725728E-05"
        ixy="8.51115986496426E-09"
        ixz="1.40703608309957E-08"
        iyy="0.000122231132626729"
        iyz="-1.11226978982942E-06"
        izz="8.44935061081861E-05" />
    </inertial>
    <visual>
      <origin
        xyz="0 0 0"
        rpy="0 0 0" />
      <geometry>
        <mesh
          filename="package://kuavo_assets/models/biped_s41/meshes/r_hand_yaw.STL" />
      </geometry>
      <material
        name="">
        <color
          rgba="1 1 1 1" />
      </material>
    </visual>
  </link>
  <joint
    name="zarm_r5_joint"
    type="revolute">
    <origin
      xyz="0 0 -0.191050000125729"
      rpy="0 0 0" />
    <parent
      link="zarm_r4_link" />
    <child
      link="zarm_r5_link" />
    <axis
      xyz="0 0 1" />
    <limit 
      lower="-1.657" 
      upper="1.657" 
      effort="6" 
      velocity="14" />
    <dynamic
      damping="0.2" />
  </joint>
  
  <link
    name="zarm_r6_link">
    <inertial>
      <origin
        xyz="0.00735986990228184 -0.0047523802551166 0.00605888061339196"
        rpy="0 0 0" />
      <mass
        value="0.376651" />
      <inertia
        ixx="4.77321358097824E-05"
        ixy="-2.99709432812988E-06"
        ixz="4.71488437974188E-06"
        iyy="3.42470226388499E-05"
        iyz="4.61094199971347E-06"
        izz="2.51299600072388E-05" />
    </inertial>
    <visual>
      <origin
        xyz="0 0 0"
        rpy="0 0 0" />
      <geometry>
        <mesh
          filename="package://kuavo_assets/models/biped_s41/meshes/r_hand_pitch.STL" />
      </geometry>
      <material
        name="">
        <color
          rgba="1 1 1 1" />
      </material>
    </visual>
  </link>
  <joint
    name="zarm_r6_joint"
    type="revolute">
    <origin
      xyz="0 0 0"
      rpy="0 0 0" />
    <parent
      link="zarm_r5_link" />
    <child
      link="zarm_r6_link" />
    <axis
      xyz="0 1 0" />
    <limit 
      lower="-1.657" 
      upper="1.657" 
      effort="6" 
      velocity="14" />
    <dynamic
      damping="0.2" />
  </joint>
  
  <link
    name="zarm_r7_link">
    <inertial>
      <origin
        xyz="0.0045944493552252 -0.00586927010446042 -0.0836324643988434"
        rpy="0 0 0" />
      <mass
        value="0.704669" />
      <inertia
        ixx="0.000160651543151659"
        ixy="-5.37963063503334E-07"
        ixz="-9.47669219939636E-06"
        iyy="0.000229393712149694"
        iyz="-2.08351527945055E-05"
        izz="0.000219277776699058" />
    </inertial>
    <visual>
      <origin
        xyz="0 0 0"
        rpy="0 0 0" />
      <geometry>
        <mesh
          filename="package://kuavo_assets/models/biped_s41/meshes/r_hand_roll.STL" />
      </geometry>
      <material
        name="">
        <color
          rgba="1 1 1 1" />
      </material>
    </visual>
  </link>
  <joint
    name="zarm_r7_joint"
    type="revolute">
    <origin
      xyz="0 0 0"
      rpy="0 0 0" />
    <parent
      link="zarm_r6_link" />
    <child
      link="zarm_r7_link" />
    <axis
      xyz="1 0 0" />
    <limit 
      lower="-1.57" 
      upper="1.57" 
      effort="6" 
      velocity="14" />
    <dynamic
      damping="0.2" />
  </joint>

  <link
    name="zarm_r7_end_effector">
    <collision>
        <origin rpy="0 0 0" xyz="0 0 0"/>
        <geometry>
            <sphere radius="0.005"/>
        </geometry>
    </collision>
  </link>
  <joint
    name="zarm_r7_joint_end_effector"
    type="fixed">
    <origin
      xyz="0.00 0.03 -0.17"
      rpy="0 0 0" />
    <parent
      link="zarm_r7_link" />
    <child
      link="zarm_r7_end_effector" />
  </joint>
  
  <link
    name="neck_motor">
    <inertial>
      <origin
        xyz="-3.77475828372553E-15 0.0124496461817263 -0.0298176941106402"
        rpy="0 0 0" />
      <mass
        value="0.0290833361791932" />
      <inertia
        ixx="2.31088609398575E-05"
        ixy="-8.31934611144254E-20"
        ixz="9.83952420743037E-21"
        iyy="2.23207774381225E-05"
        iyz="-5.88352640523343E-06"
        izz="2.78125851778324E-05" />
    </inertial>
    <visual>
      <origin
        xyz="0 0 0"
        rpy="0 0 0" />
      <geometry>
        <mesh
          filename="package://kuavo_assets/models/biped_s41/meshes/neck_motor.STL" />
      </geometry>
      <material
        name="">
        <color
          rgba="0.67843137254902 0.654901960784314 0.827450980392157 1" />
      </material>
    </visual>
    <collision>
      <origin
        xyz="0 0 0"
        rpy="0 0 0" />
      <geometry>
        <mesh
          filename="package://kuavo_assets/models/biped_s41/meshes/neck_motor.STL" />
      </geometry>
    </collision>
  </link>
  <joint
    name="neck_joint_yaw"
    type="revolute">
    <origin
      xyz="-0.0175 0 0.5014"
      rpy="0 0 0" />
    <parent
      link="base_link" />
    <child
      link="neck_motor" />
    <axis
      xyz="0 0 1" />
    <limit
      lower="-1.57"
      upper="1.57"
      effort="0"
      velocity="0" />
  </joint>
  <link
    name="head">
    <inertial>
      <origin
        xyz="0.0110644219279026 0.000692305509442714 0.0585997503013596"
        rpy="0 0 0" />
      <mass
        value="0.658604769949708" />
      <inertia
        ixx="0.00170712579893411"
        ixy="6.4192791555892E-08"
        ixz="0.000505818824164995"
        iyy="0.00174953220790319"
        iyz="5.43403107472801E-06"
        izz="0.00222561108308001" />
    </inertial>
    <visual>
      <origin
        xyz="0 0 0"
        rpy="0 0 0" />
      <geometry>
        <mesh
          filename="package://kuavo_assets/models/biped_s41/meshes/head.STL" />
      </geometry>
      <material
        name="">
        <color
          rgba="1 1 1 1" />
      </material>
    </visual>
    <collision>
      <origin
        xyz="0 0 0"
        rpy="0 0 0" />
      <geometry>
        <mesh
          filename="package://kuavo_assets/models/biped_s41/meshes/head.STL" />
      </geometry>
    </collision>
  </link>
  <joint
    name="neck_joint_pitch"
    type="revolute">
    <origin
      xyz="0 0 0"
      rpy="0 0 0" />
    <parent
      link="neck_motor" />
    <child
      link="head" />
    <axis
      xyz="0 1 0" />
    <limit
      lower="-0.52"
      upper="0.52"
      effort="0"
      velocity="0" />
  </joint>
  <link
    name="camera">
    <inertial>
      <origin
        xyz="-0.00630026108299864 -0.0160960633638387 -4.88215001732684E-05"
        rpy="0 0 0" />
      <mass
        value="0.0170255961584929" />
      <inertia
        ixx="1.09182620877589E-05"
        ixy="-1.05354237503678E-07"
        ixz="-1.05871360812816E-08"
        iyy="8.57178923448406E-07"
        iyz="-1.64018481023057E-08"
        izz="1.02869873531782E-05" />
    </inertial>
    <visual>
      <origin
        xyz="0 0 0"
        rpy="0 0 0" />
      <geometry>
        <mesh
          filename="package://kuavo_assets/models/biped_s41/meshes/camera.STL" />
      </geometry>
      <material
        name="">
        <color
          rgba="1 1 1 1" />
      </material>
    </visual>
    <collision>
      <origin
        xyz="0 0 0"
        rpy="0 0 0" />
      <geometry>
        <mesh
          filename="package://kuavo_assets/models/biped_s41/meshes/camera.STL" />
      </geometry>
    </collision>
  </link>
  <joint
    name="camera"
    type="fixed">
    <origin
      xyz="0.0919101155958193 0.0175000000022731 0.0617838754768194"
      rpy="0 0.610865238198013 0" />
    <parent
      link="head" />
    <child
      link="camera" />
    <axis
      xyz="0 0 0" />
  </joint>

</robot>
